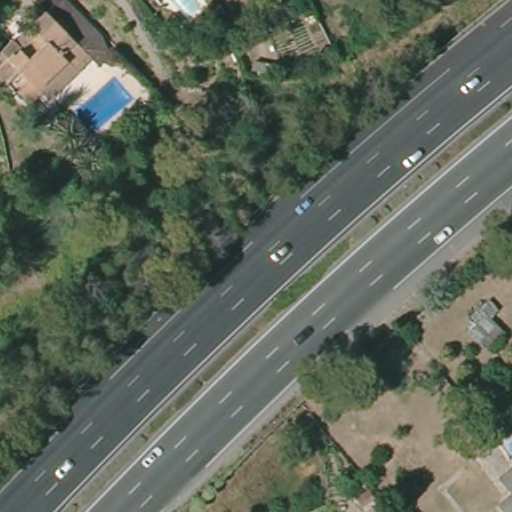pool: (73, 73, 135, 133), (171, 1, 206, 21)
